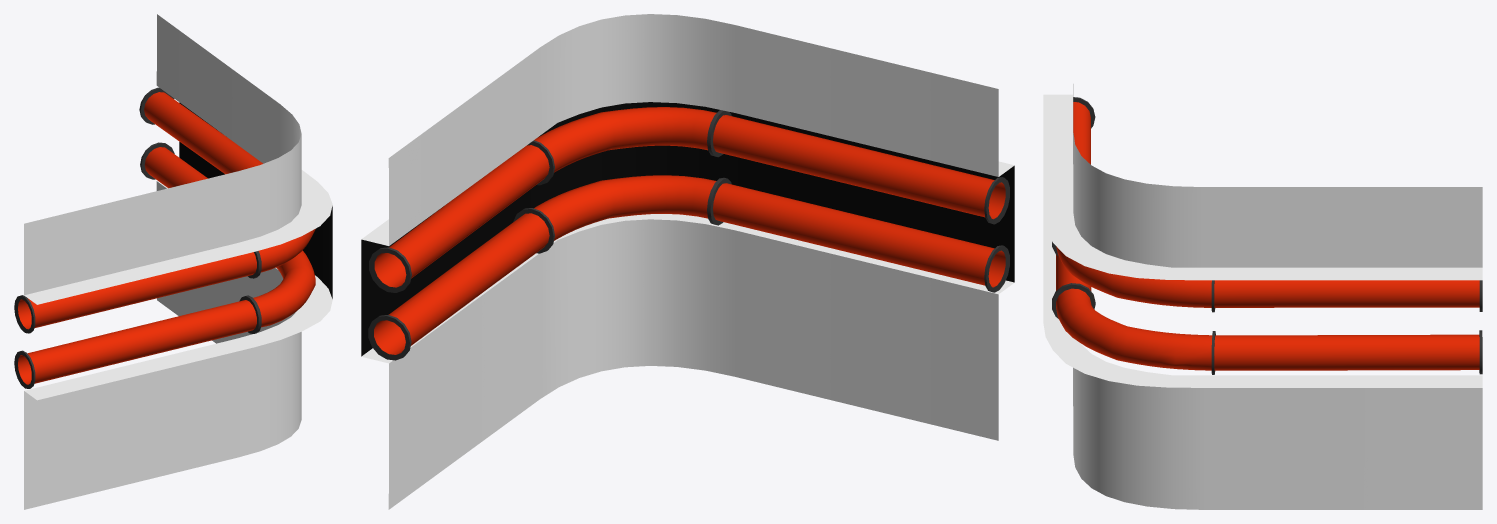
File: S_assete_basement_wall_soft_inside_corner_midel_2.fbx
The picture shows the model from 3 angles, left to right: view 1: azimuth 30°, elevation 25°; view 2: azimuth 150°, elevation 25°; view 3: azimuth 270°, elevation 25°; orthographic projection. The views are drawn at different scales.
Parts seen in each view (by area): view 1: basement_wall_soft_inside_corner_midel_2; view 2: basement_wall_soft_inside_corner_midel_2; view 3: basement_wall_soft_inside_corner_midel_2.
Part boxes in pixels (x1,y1,x2,y2): basement_wall_soft_inside_corner_midel_2: [14, 14, 332, 509]; basement_wall_soft_inside_corner_midel_2: [361, 14, 1014, 509]; basement_wall_soft_inside_corner_midel_2: [1043, 84, 1482, 509].
Bounding box in the file's own units: 246 × 200 × 247.
